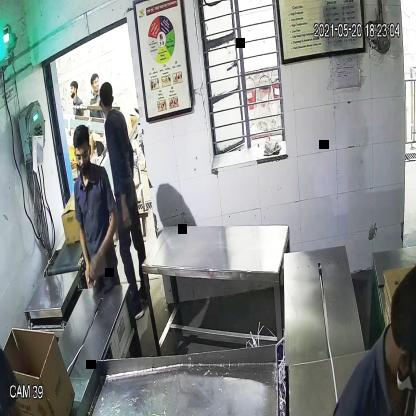goggles: (74, 148, 90, 163)
